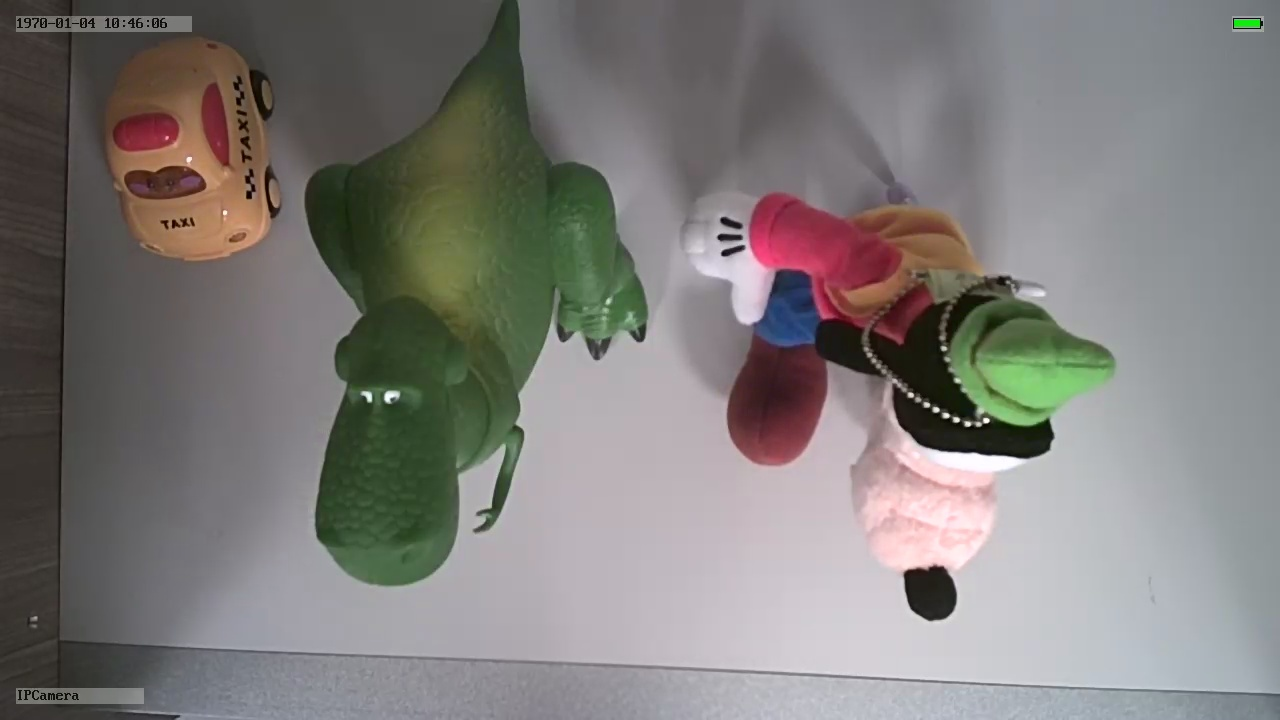car: (101, 32, 290, 264)
goofy: (670, 182, 1123, 623)
rex: (303, 43, 652, 586)
